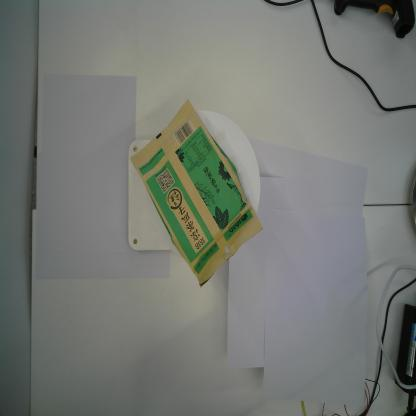Dried Food: (126, 96, 263, 292)
